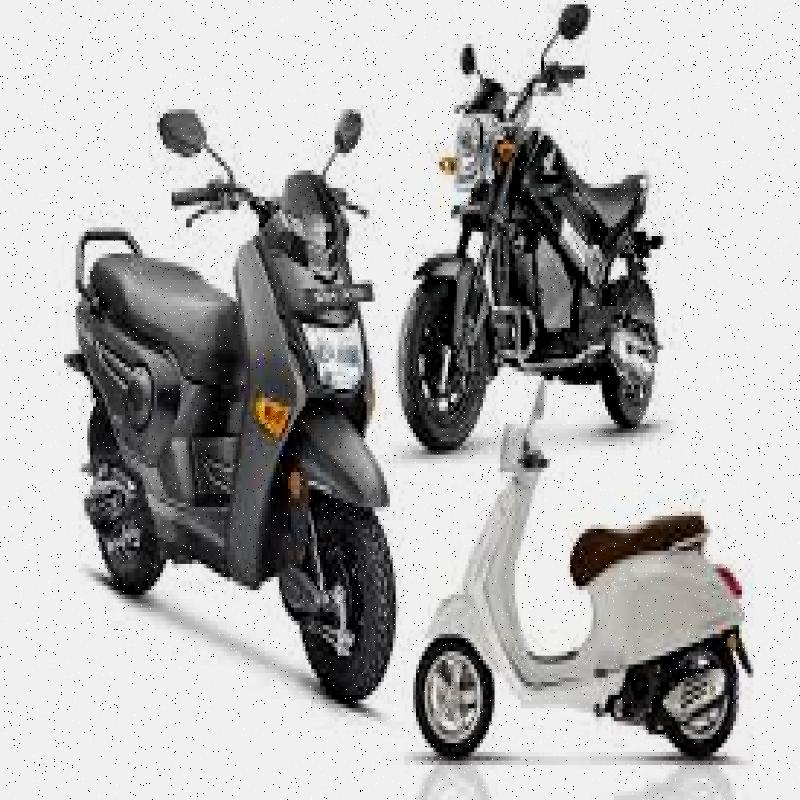bike: (63, 0, 400, 702), (413, 359, 756, 781), (386, 0, 710, 442)
